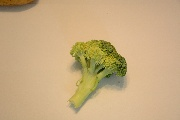broccoli: (68, 40, 129, 107)
